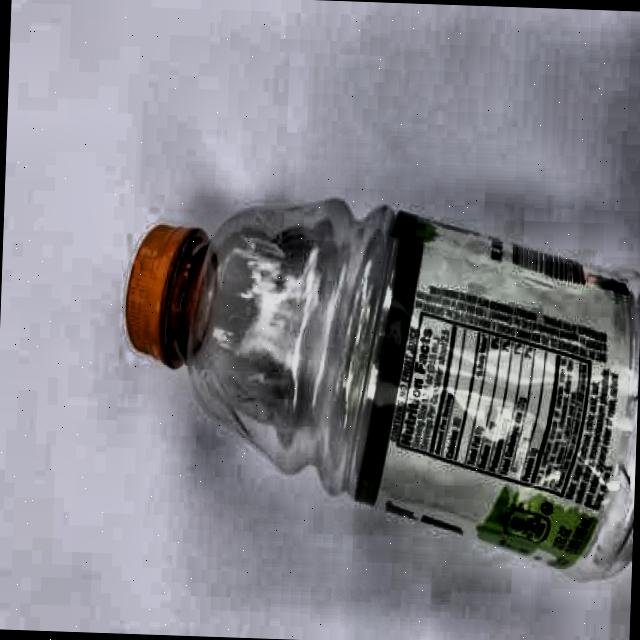plastic: (113, 191, 640, 565)
